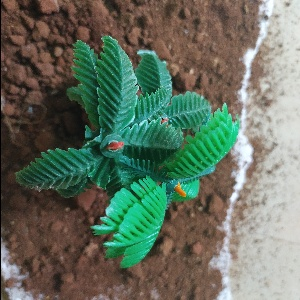plant: (17, 37, 236, 266)
